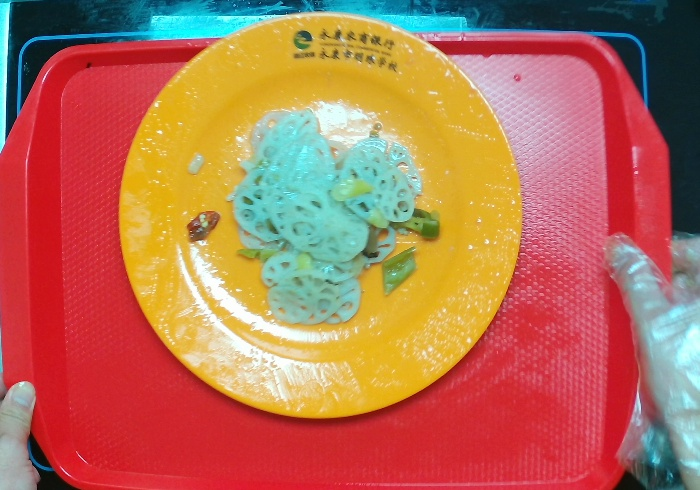YKMZ-Ju_Se_Mian_Pan: (113, 9, 525, 428)
